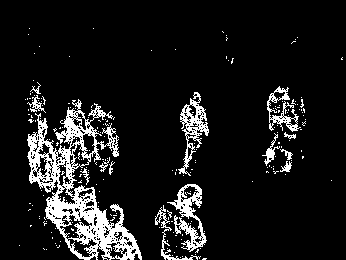person: (154, 182, 212, 260), (174, 90, 209, 174), (97, 203, 142, 260), (263, 84, 289, 164)
